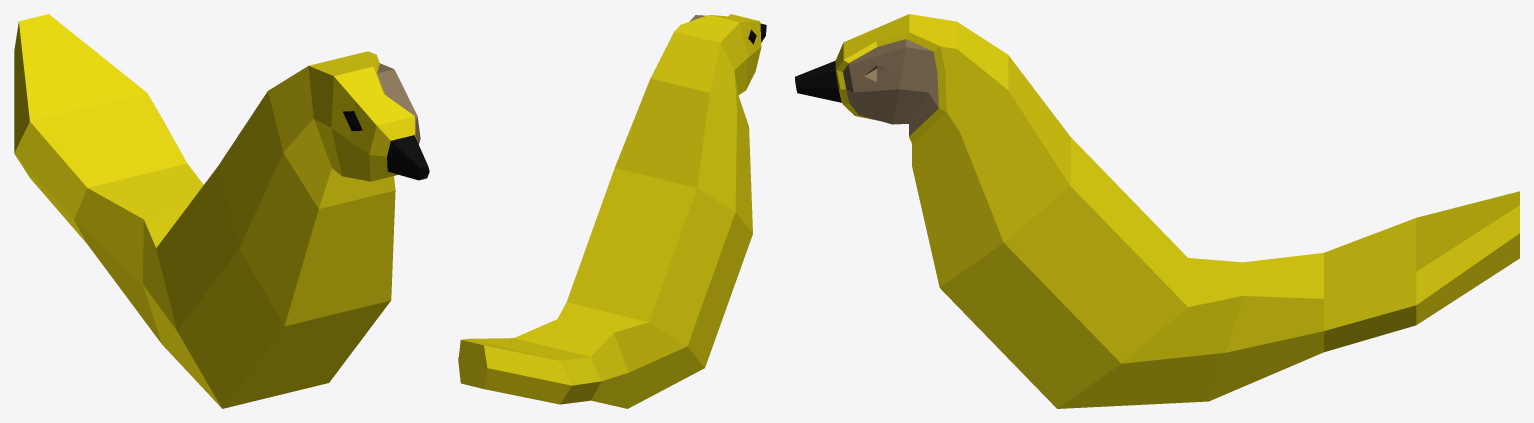
Rendered from deadCanary.fbx.
The picture shows the model from 3 angles, left to right: view 1: azimuth 30°, elevation 25°; view 2: azimuth 150°, elevation 25°; view 3: azimuth 270°, elevation 25°; orthographic projection. The views are drawn at different scales.
Parts seen in each view (by area): view 1: Cube; view 2: Cube; view 3: Cube.
Boxes of the visible parts, bbox=[...] form: Cube: bbox=[14, 14, 429, 408]; Cube: bbox=[458, 14, 766, 408]; Cube: bbox=[795, 14, 1519, 408].
Bounding box in the file's own units: 23.02 × 57 × 104.
